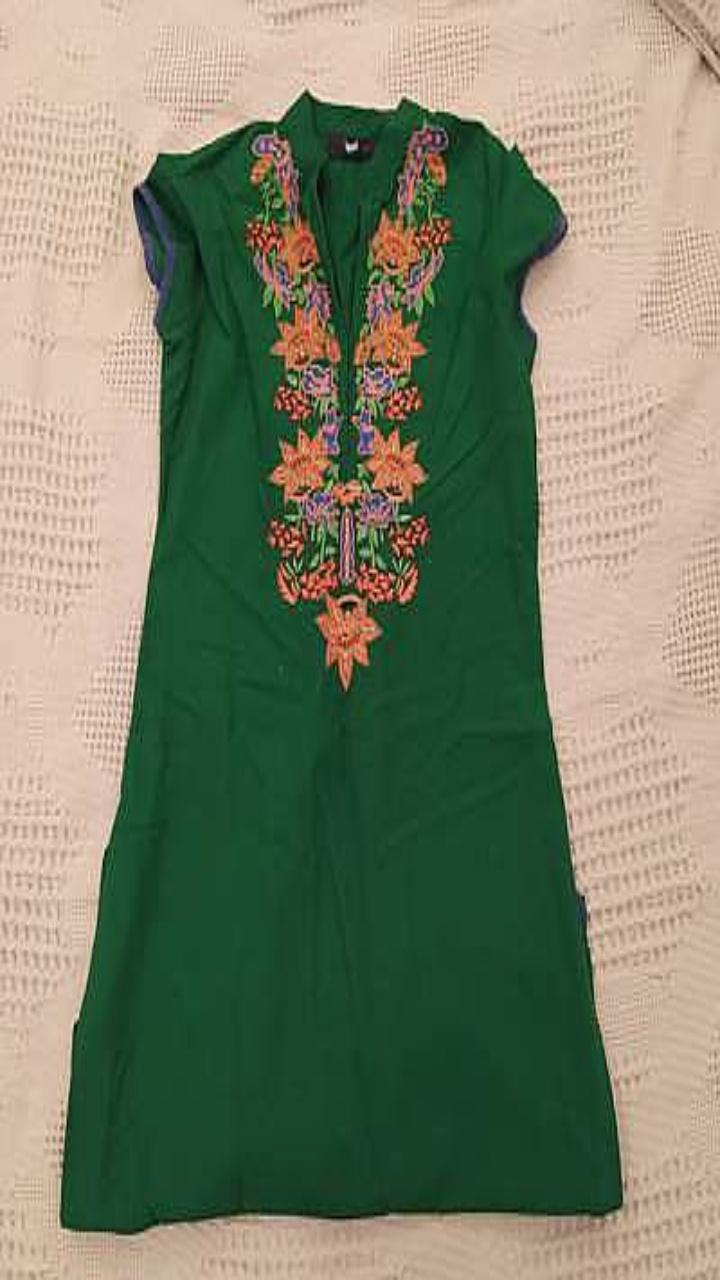Dresses: (61, 90, 621, 1230)
